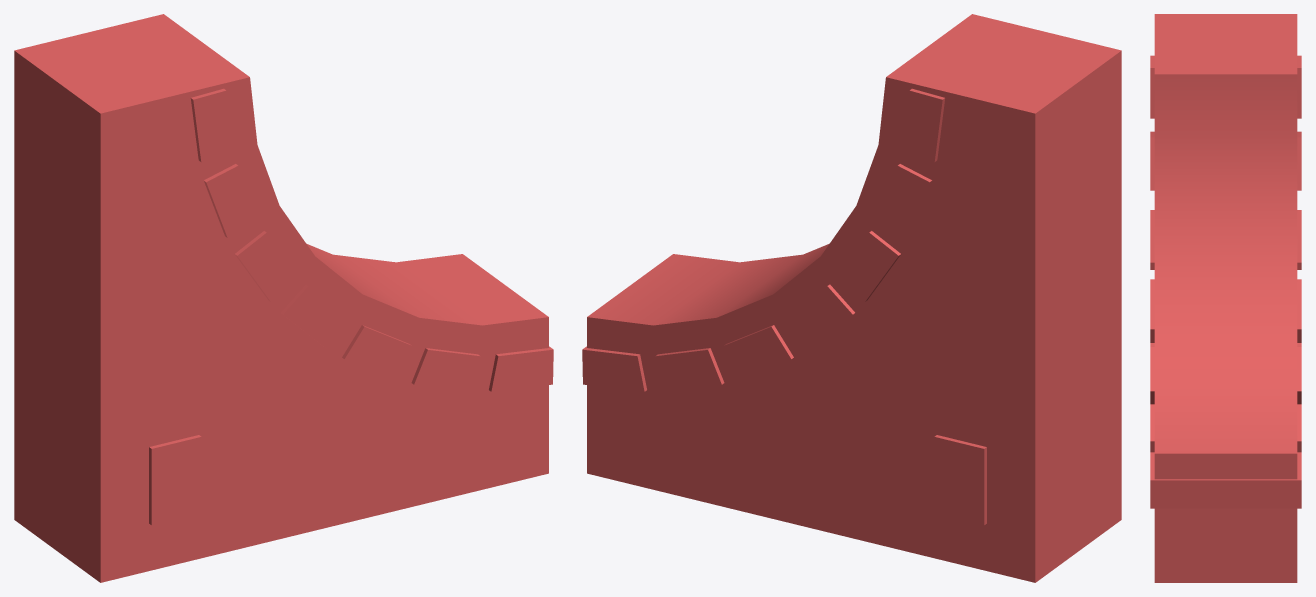
File: Slope1Color.fbx
3 views of the same model, side by side, from view 1: azimuth 30°, elevation 25°; view 2: azimuth 150°, elevation 25°; view 3: azimuth 270°, elevation 25° (orthographic). The views are drawn at different scales.
Visible parts, largest first — view 1: polySurface487; view 2: polySurface487; view 3: polySurface487.
Boxes of the visible parts, box(x1,y1,x2,y2) form: polySurface487: box(14, 14, 553, 582); polySurface487: box(582, 14, 1121, 582); polySurface487: box(1150, 14, 1301, 582).
Size of the model in its own units: 2.9 by 2.89 by 1.02.
